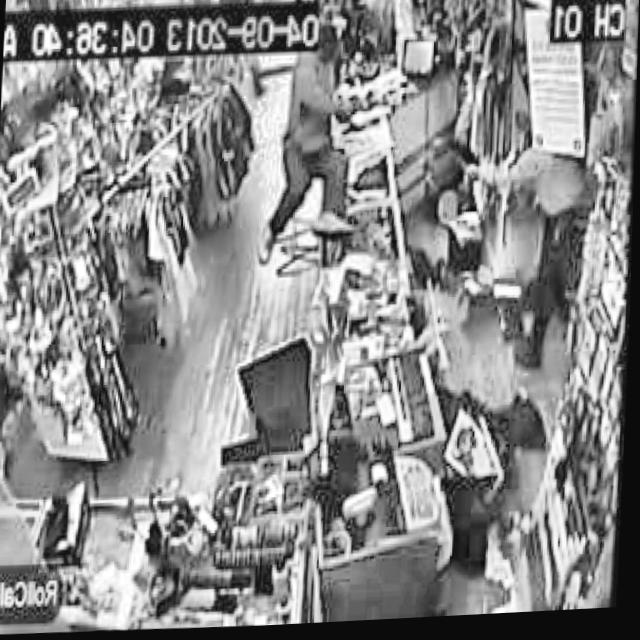robbery: (254, 20, 380, 292)
